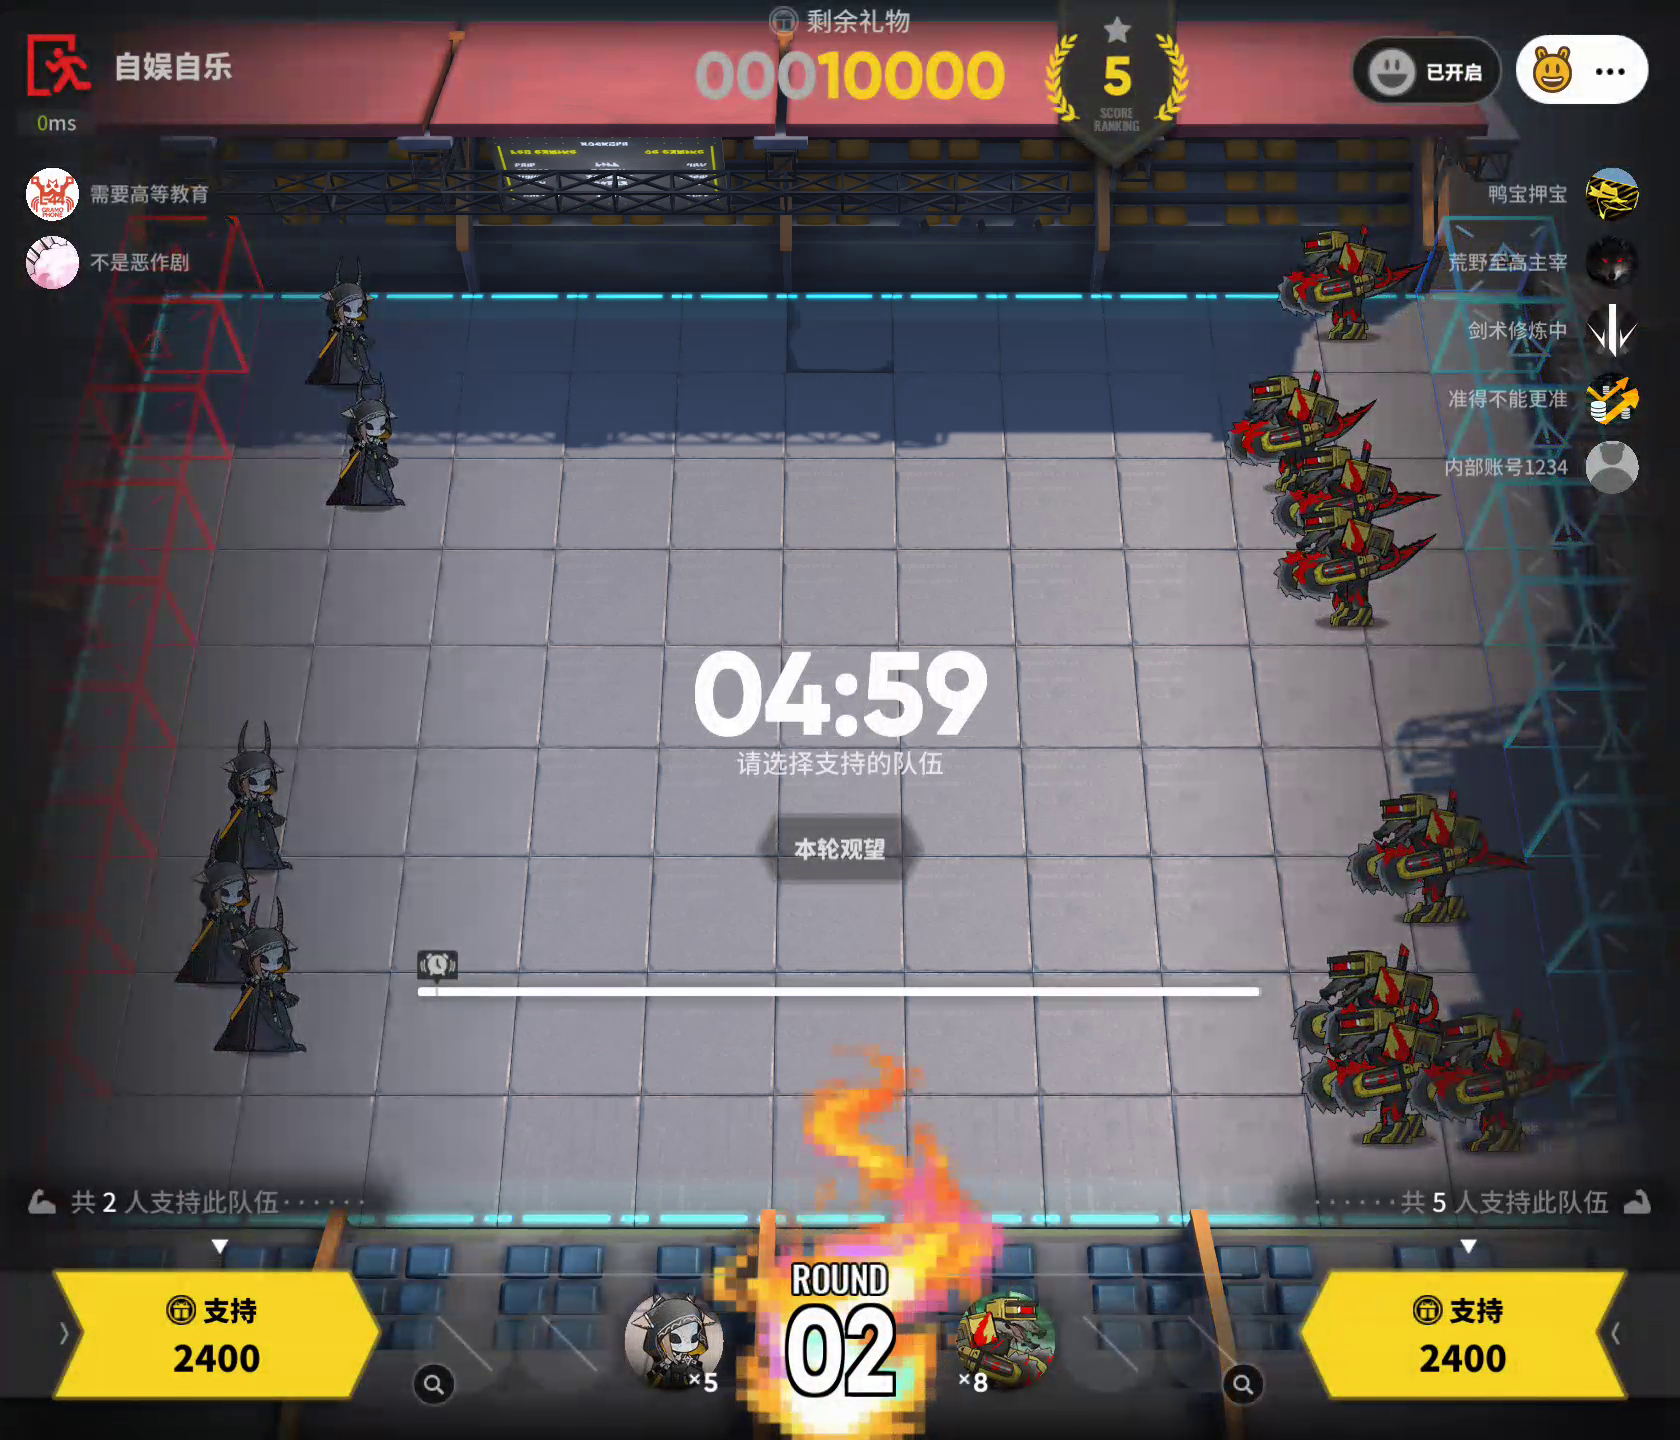扩音术师: (216, 889, 314, 1064), (217, 709, 321, 869), (184, 827, 283, 979), (331, 364, 419, 514), (614, 1289, 733, 1399), (303, 249, 394, 384)
机鳄战甲: (1270, 211, 1451, 360), (1351, 780, 1529, 931), (1424, 1014, 1594, 1156), (1267, 503, 1459, 627), (1291, 934, 1450, 1079), (1269, 423, 1446, 544), (1306, 994, 1444, 1139), (1219, 364, 1380, 461), (944, 1289, 1066, 1404)
